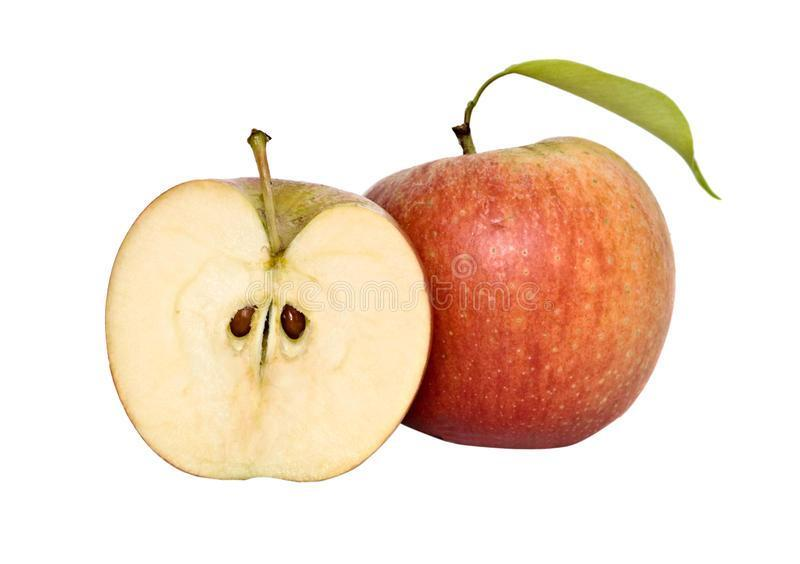apple: (366, 131, 676, 446)
